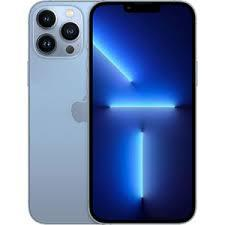Smartphone: (91, 6, 191, 223), (28, 3, 118, 223)
